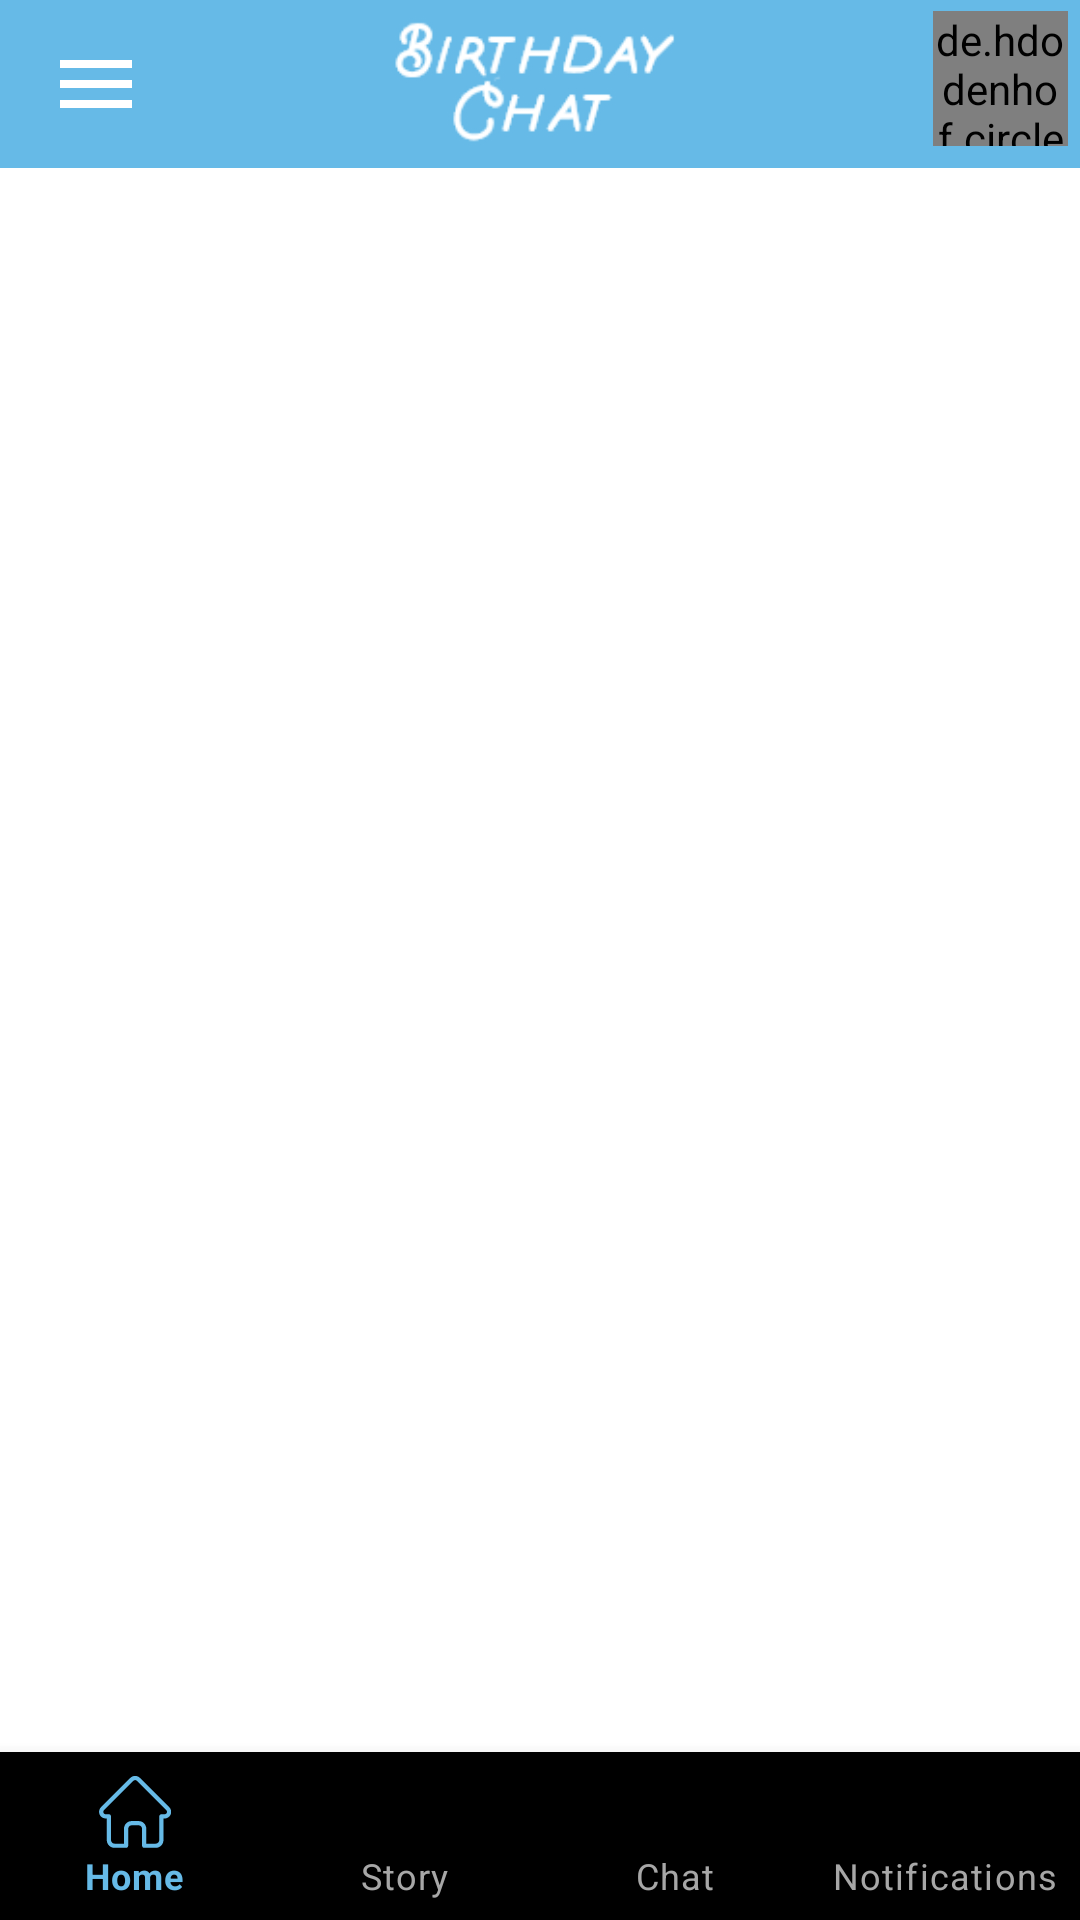

Point at icon controls on the screen. Image size 1080px x 1920px, points as (x,y).
menu: (96,84)
